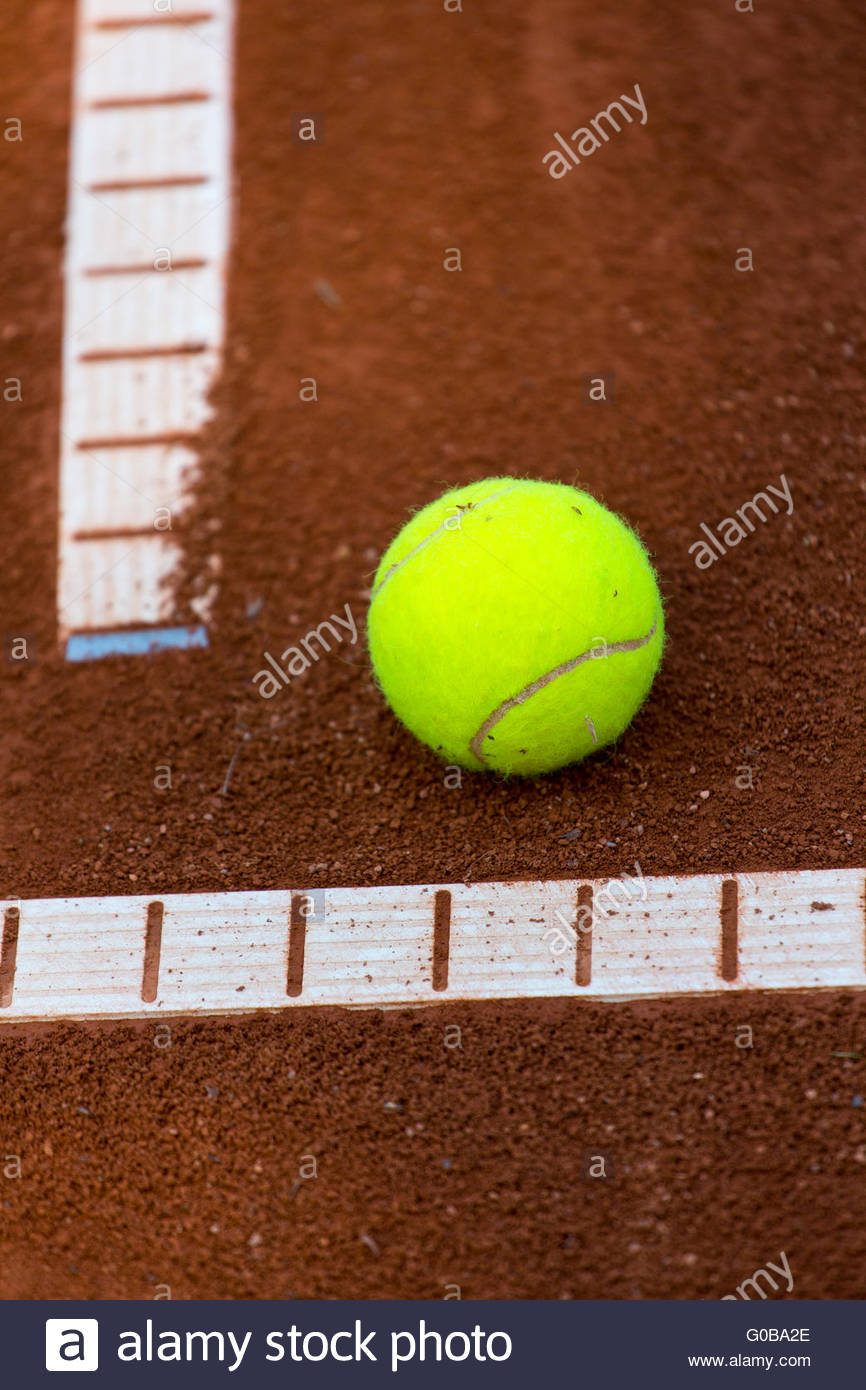tennis_ball: (361, 469, 680, 774)
